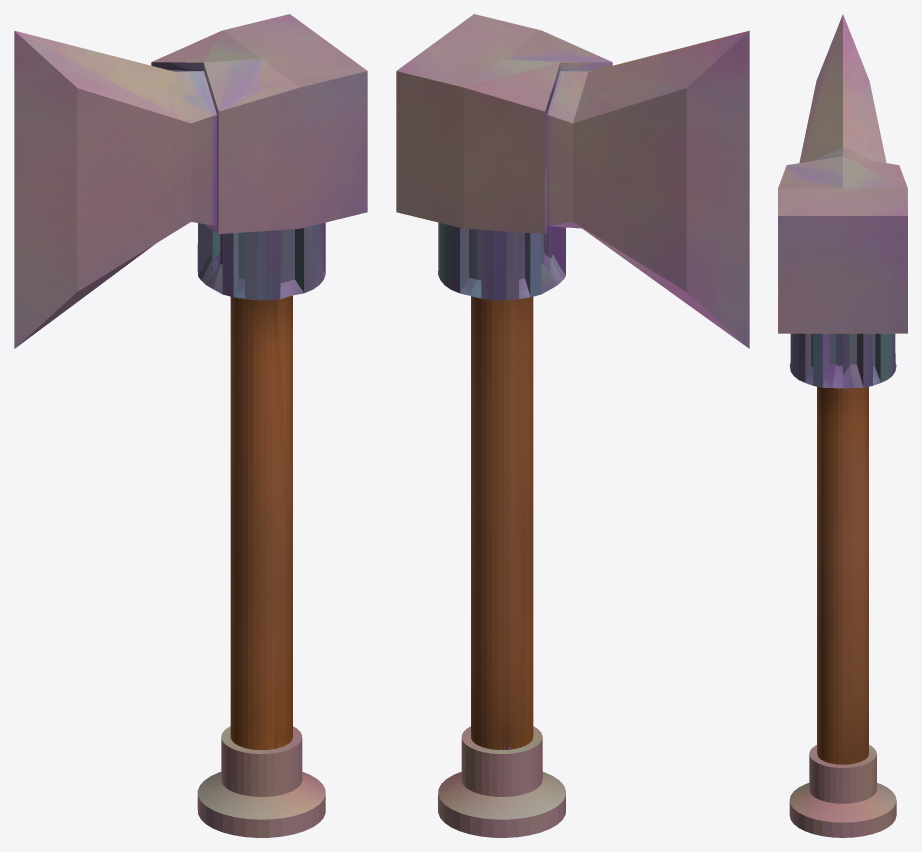
File: AXE.fbx
The picture shows the model from 3 angles, left to right: view 1: azimuth 30°, elevation 25°; view 2: azimuth 150°, elevation 25°; view 3: azimuth 270°, elevation 25°; orthographic projection. The views are drawn at different scales.
Parts seen in each view (by area): view 1: Cube, 圓柱體; view 2: Cube, 圓柱體; view 3: 圓柱體, Cube.
Boxes of the visible parts, left/top/right/bottom form: Cube: left=14, top=14, right=367, bottom=348; 圓柱體: left=197, top=222, right=325, bottom=837; Cube: left=396, top=14, right=749, bottom=348; 圓柱體: left=438, top=222, right=565, bottom=837; 圓柱體: left=789, top=333, right=896, bottom=837; Cube: left=778, top=14, right=907, bottom=333.
Bounding box in the file's own units: 466 × 1191 × 200.
